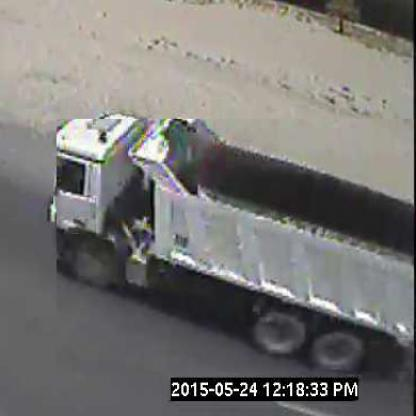truck: (57, 120, 416, 374)
